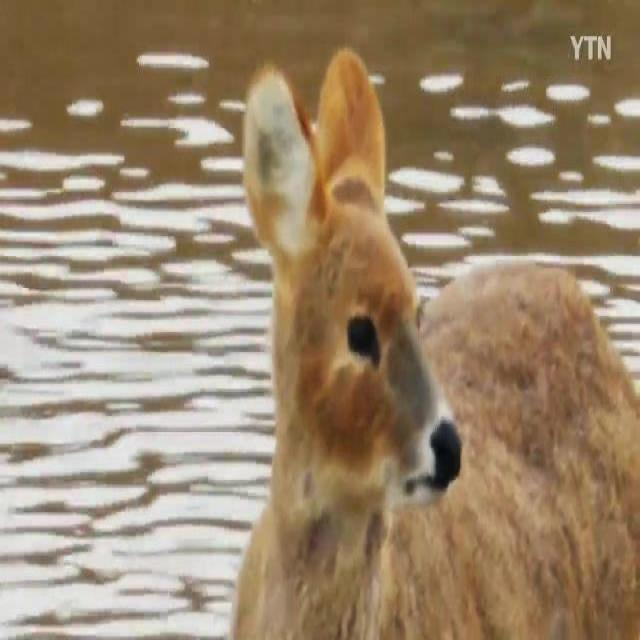deer: (229, 49, 640, 640)
